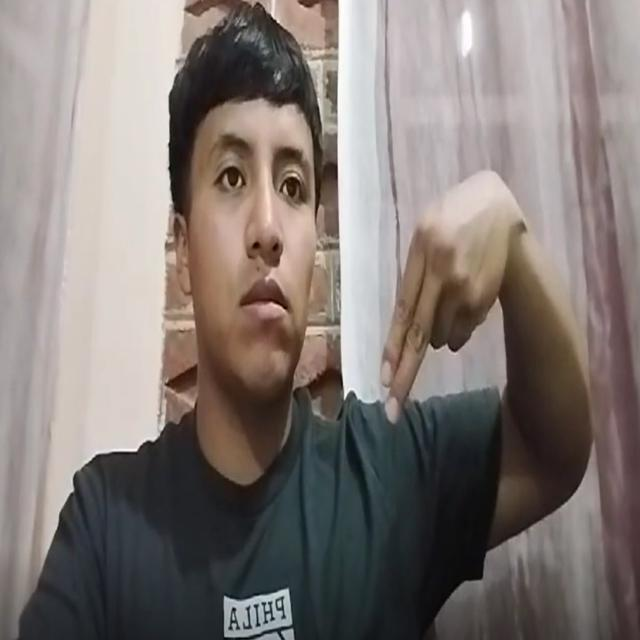N: (341, 142, 568, 451)
